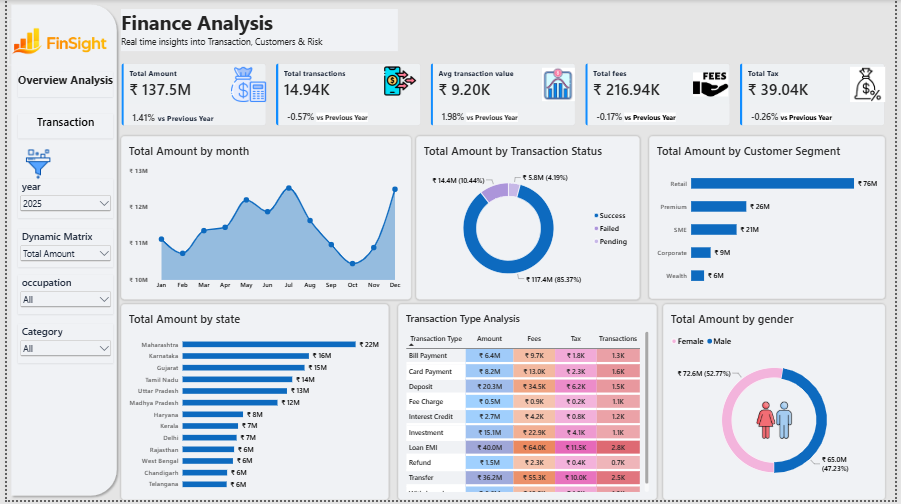

This screenshot's page, from the dashboard's own definition file:
{"tool":"powerbi","page":{"name":"Page 1","canvas":[1920,1080],"ordinal":0},"visuals":[{"type":"shape","box":[0,0,246.2,1080],"z":0},{"type":"textbox","box":[246.2,19.4,598.3,90.7],"z":1000},{"type":"cardVisual","fields":{"Data":["finance_transactions.Total Amount","finance_transactions.Total transactions","finance_transactions.Avg transaction value","finance_transactions.Total fees","finance_transactions.Total Tax"]},"box":[246.2,136.1,1650.2,136.1],"z":2000},{"type":"slicer","fields":{"Values":["calender table.year"]},"box":[23.4,386.9,206.2,85],"z":3000},{"type":"slicer","fields":{"Values":["Dynamic Matrix.Dynamic Matrix"]},"box":[23.4,495.4,206.2,82.9],"z":4000},{"type":"areaChart","fields":{"Y":["finance_transactions.Total Amount"],"Category":["calender table.month"]},"box":[246.2,293.8,627.2,352.9],"z":5000},{"type":"donutChart","fields":{"Y":["finance_transactions.Total Amount"],"Category":["finance_transactions.transaction_status"]},"box":[883.4,293.8,482.6,352.9],"z":6000},{"type":"barChart","fields":{"Y":["finance_transactions.Total Amount"],"Category":["customers .customer_segment"]},"box":[1386.7,293.8,509.8,352.1],"z":7000},{"type":"barChart","fields":{"Y":["finance_transactions.Total Amount"],"Category":["customers .state"]},"box":[246.2,656.6,578.3,423.1],"z":8000},{"type":"tableEx","title":"Transaction Type Analysis","fields":{"Values":["finance_transactions.transaction_type","finance_transactions.Total Amount","finance_transactions.Total fees","finance_transactions.Total Tax","finance_transactions.Total transactions"]},"box":[844.6,656.6,559.4,423.4],"z":9000},{"type":"donutChart","fields":{"Y":["finance_transactions.Total Amount"],"Category":["customers .gender"]},"box":[1417,656.6,480.5,423.1],"z":10000},{"type":"slicer","fields":{"Values":["customers .occupation"]},"box":[23.4,593.1,206.2,85],"z":11000},{"type":"slicer","fields":{"Values":["finance_transactions.merchant_category"]},"box":[23.4,699.4,206.2,85],"z":12000},{"type":"textbox","box":[23.8,155.5,205.2,54],"z":13000},{"type":"textbox","box":[23.4,246.6,206.2,53.1],"z":14000},{"type":"image","box":[23.8,321.8,86.4,64.8],"z":14002},{"type":"image","box":[805.7,140.4,86.4,69.1],"z":14003},{"type":"image","box":[1155.6,140.4,71.3,84.2],"z":14004},{"type":"image","box":[483.8,140.4,75.6,84.2],"z":14005},{"type":"image","box":[1481.8,140.4,75.6,84.2],"z":14006},{"type":"image","box":[1820.9,140.4,75.6,84.2],"z":14007},{"type":"image","box":[2.2,38.9,226.8,101.5],"z":14008}]}

Visuals, with their boxes in screenshot pixels (x1, y1, x2, y2), scaled from the page's 1920x1080 canvas onto the 901x504 screenshot:
shape: pyautogui.locateOnScreen(0, 0, 116, 503)
textbox: pyautogui.locateOnScreen(116, 9, 396, 51)
cardVisual - finance_transactions.Total Amount x finance_transactions.Total transactions: pyautogui.locateOnScreen(116, 64, 890, 127)
slicer - calender table.year: pyautogui.locateOnScreen(11, 181, 108, 220)
slicer - Dynamic Matrix.Dynamic Matrix: pyautogui.locateOnScreen(11, 231, 108, 270)
areaChart - finance_transactions.Total Amount x calender table.month: pyautogui.locateOnScreen(116, 137, 410, 302)
donutChart - finance_transactions.Total Amount x finance_transactions.transaction_status: pyautogui.locateOnScreen(415, 137, 641, 302)
barChart - finance_transactions.Total Amount x customers .customer_segment: pyautogui.locateOnScreen(651, 137, 890, 301)
barChart - finance_transactions.Total Amount x customers .state: pyautogui.locateOnScreen(116, 306, 387, 503)
"Transaction Type Analysis" tableEx: pyautogui.locateOnScreen(396, 306, 659, 503)
donutChart - finance_transactions.Total Amount x customers .gender: pyautogui.locateOnScreen(665, 306, 890, 503)
slicer - customers .occupation: pyautogui.locateOnScreen(11, 277, 108, 316)
slicer - finance_transactions.merchant_category: pyautogui.locateOnScreen(11, 326, 108, 366)
textbox: pyautogui.locateOnScreen(11, 73, 107, 98)
textbox: pyautogui.locateOnScreen(11, 115, 108, 140)
image: pyautogui.locateOnScreen(11, 150, 52, 180)
image: pyautogui.locateOnScreen(378, 66, 419, 98)
image: pyautogui.locateOnScreen(542, 66, 576, 105)
image: pyautogui.locateOnScreen(227, 66, 263, 105)
image: pyautogui.locateOnScreen(695, 66, 731, 105)
image: pyautogui.locateOnScreen(854, 66, 890, 105)
image: pyautogui.locateOnScreen(1, 18, 107, 66)
